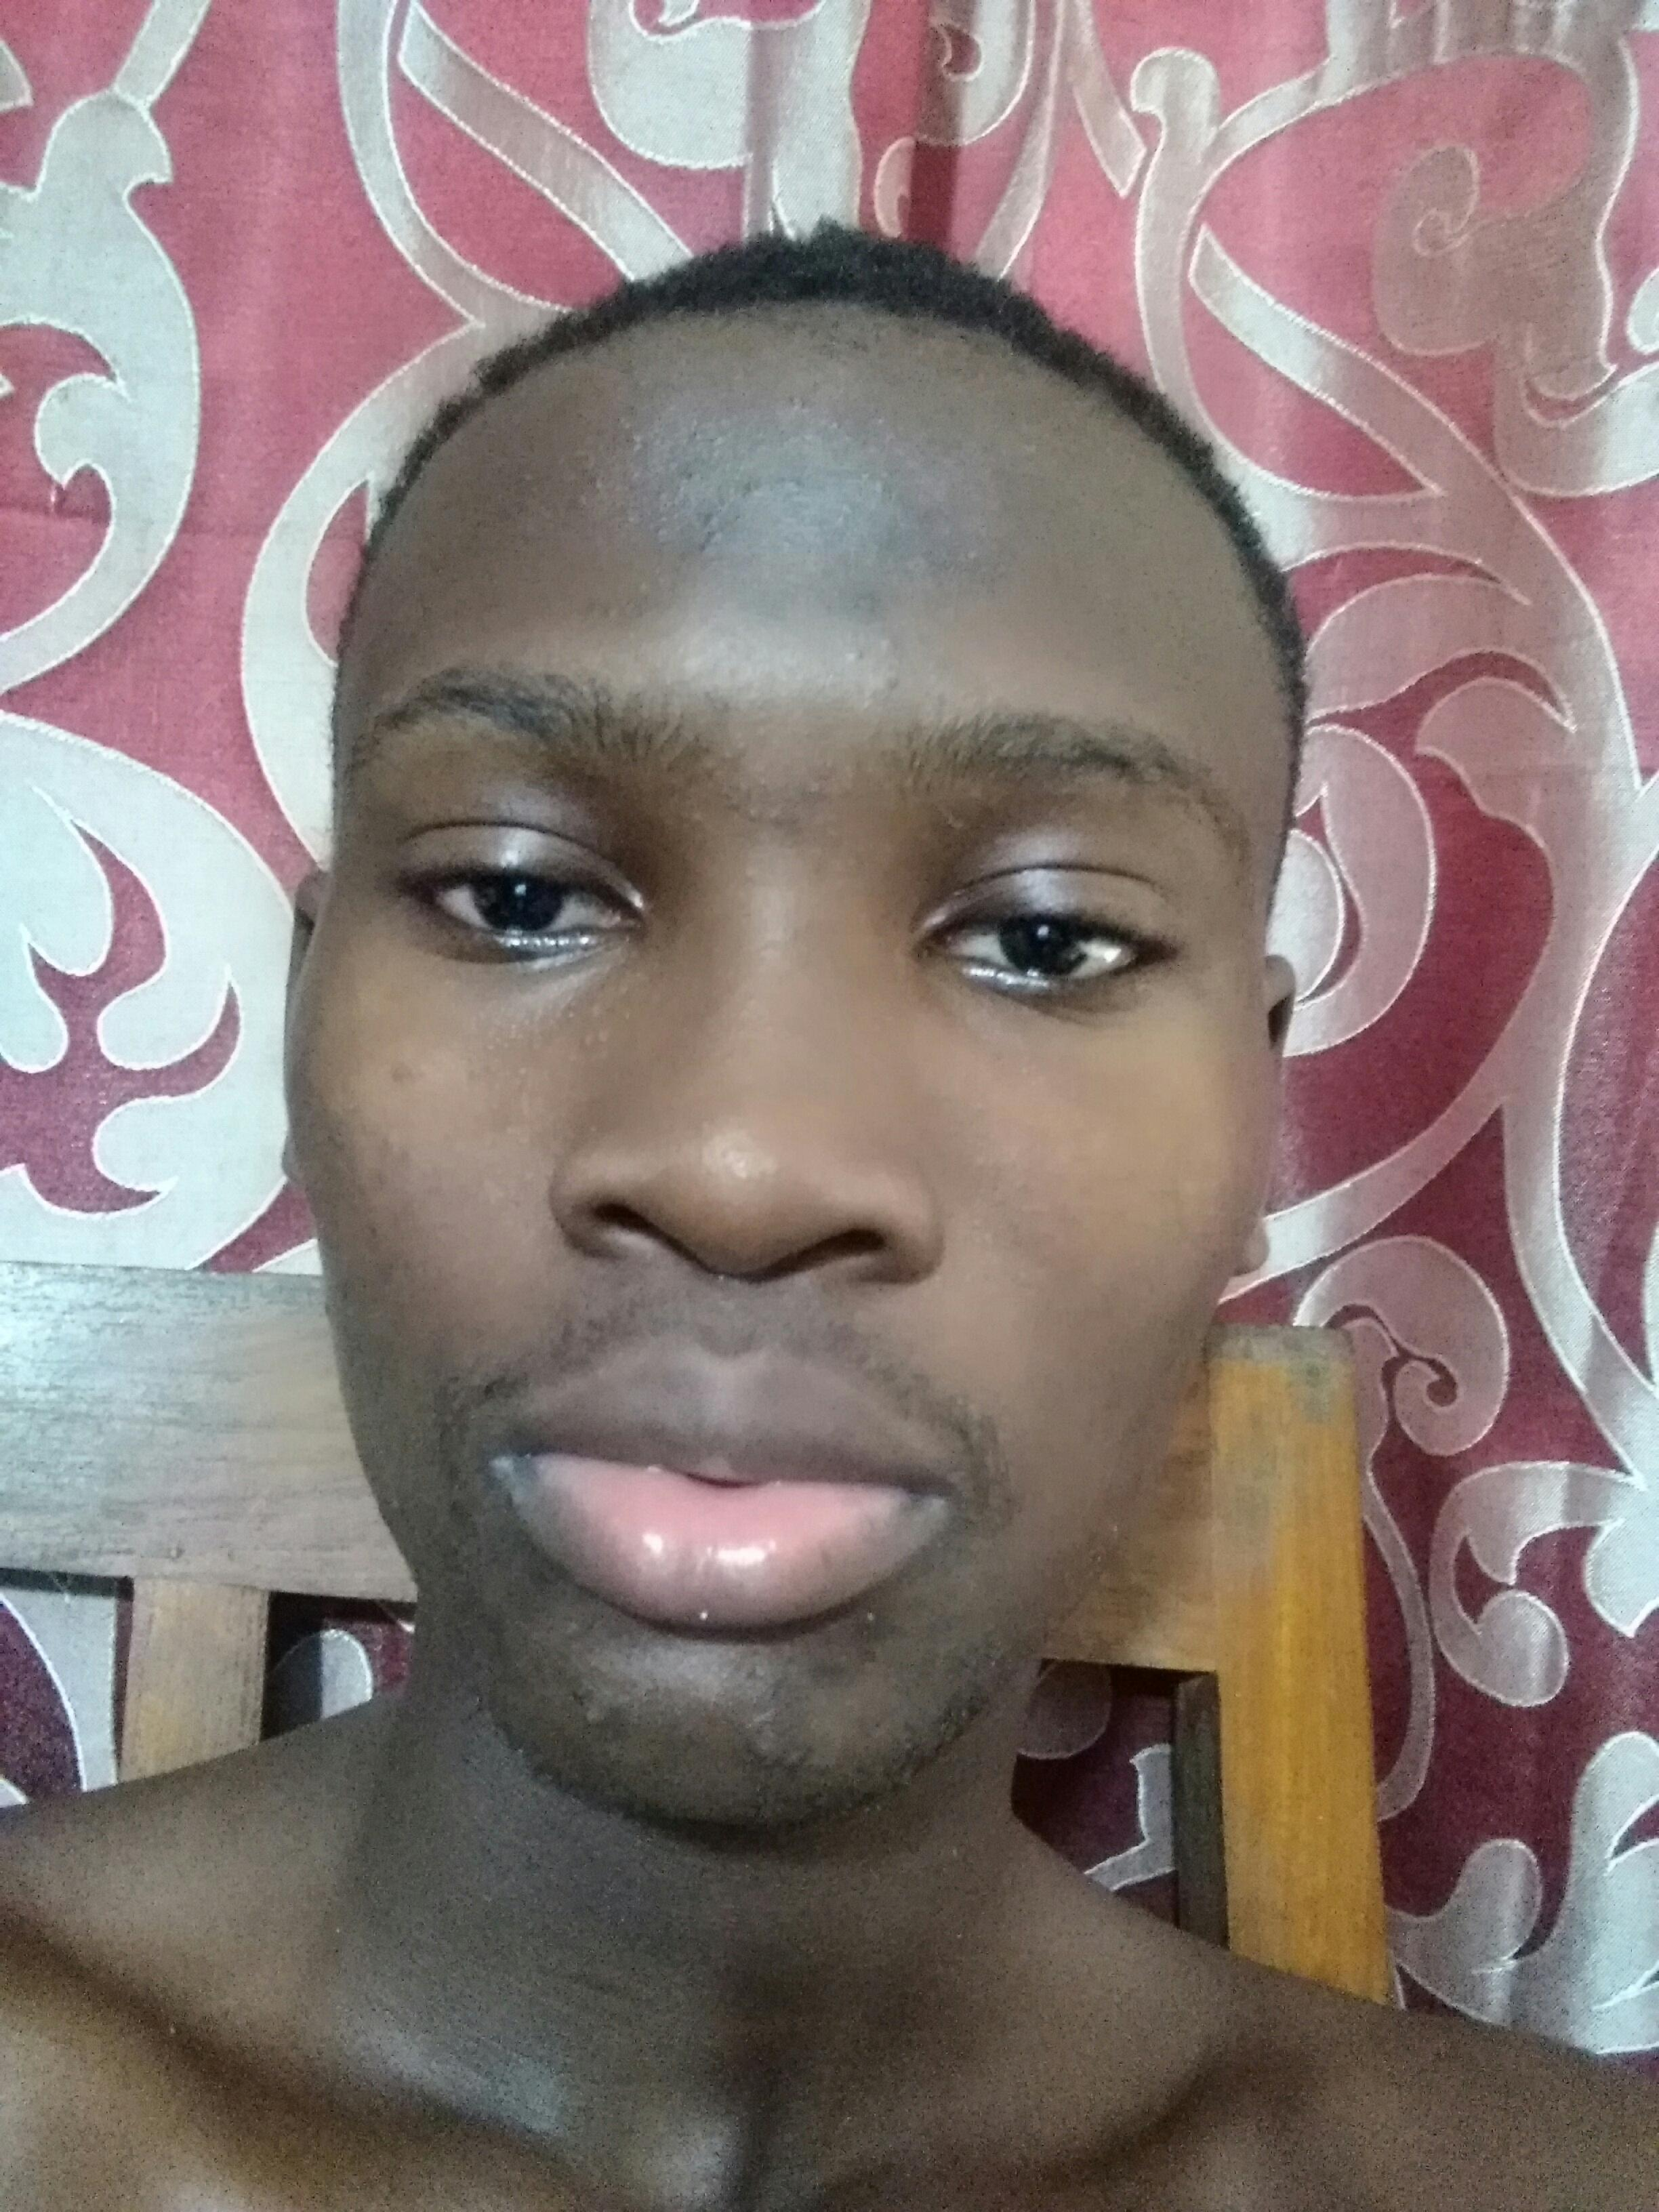Acne: (694, 470, 762, 556), (735, 775, 828, 831), (742, 1712, 809, 1778), (369, 1052, 423, 1090), (565, 470, 605, 517), (847, 582, 887, 622), (568, 1702, 606, 1735), (647, 510, 673, 549), (868, 667, 897, 698), (821, 409, 845, 442), (619, 427, 645, 455), (786, 465, 809, 495), (838, 646, 868, 662)
